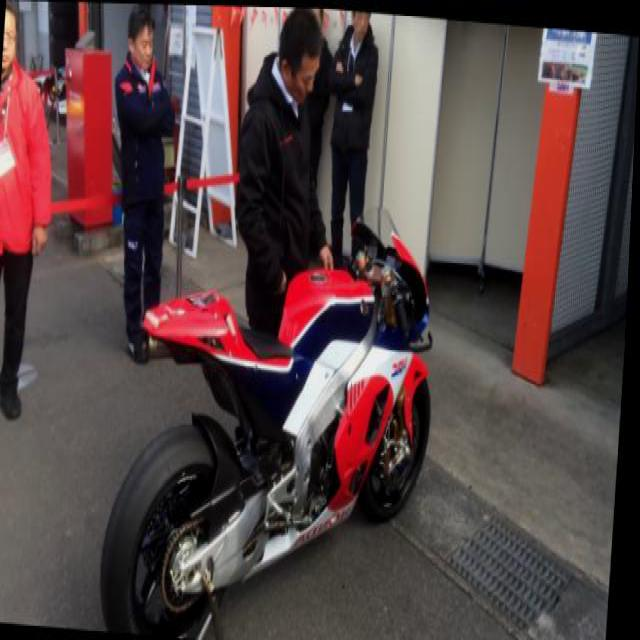HRC RCV 213: (101, 178, 449, 638)
